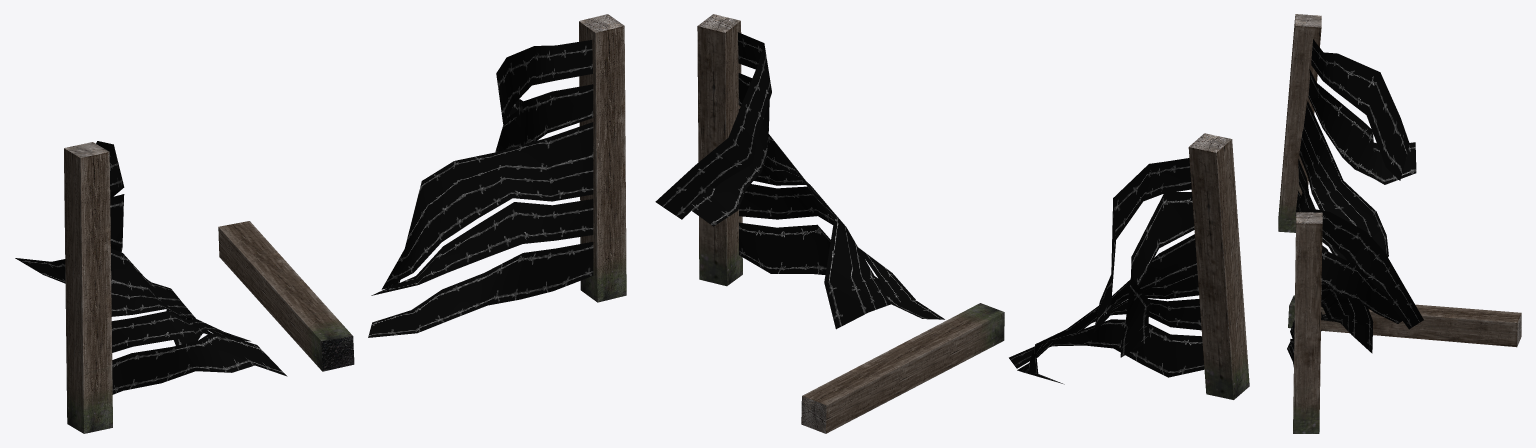
File: Barbwire_fence_fallen.obj
The picture shows the model from 3 angles, left to right: view 1: azimuth 30°, elevation 25°; view 2: azimuth 150°, elevation 25°; view 3: azimuth 270°, elevation 25°; orthographic projection. The views are drawn at different scales.
Parts seen in each view (by area): view 1: Object001; view 2: Object001; view 3: Object001.
Boxes of the visible parts, bbox=[...] form: Object001: bbox=[15, 14, 626, 433]; Object001: bbox=[655, 14, 1249, 433]; Object001: bbox=[1278, 14, 1521, 433].
Bounding box in the file's own units: 3800 × 1815 × 1850.
1 material, 1 textured.
